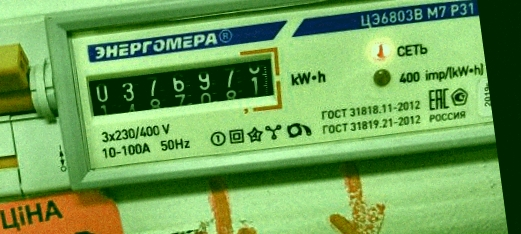0: (92, 80, 111, 103)
1: (248, 74, 262, 96)
3: (119, 79, 136, 103)
6: (170, 70, 186, 93)
7: (144, 72, 160, 98), (221, 64, 237, 89)
9: (195, 68, 211, 91)
screen: (78, 43, 288, 137)
